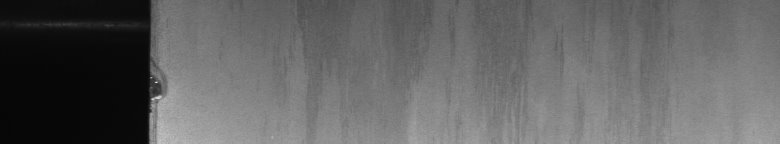hb: (160, 69, 174, 104)
